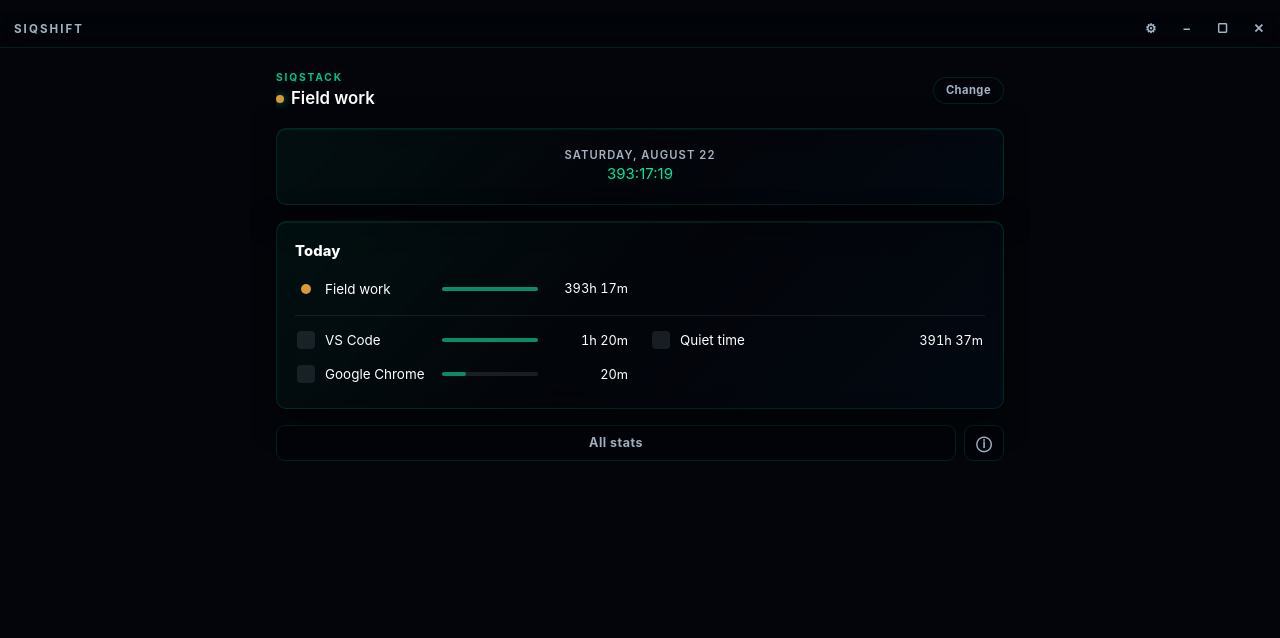
Scenario: recording › pins time to a project and hands the choice back to the host
What coordinates should you click on to do the following:
click the button with test id "filing-change"
I would click on:
 (968, 91)
Its box is [933, 77, 1004, 104].
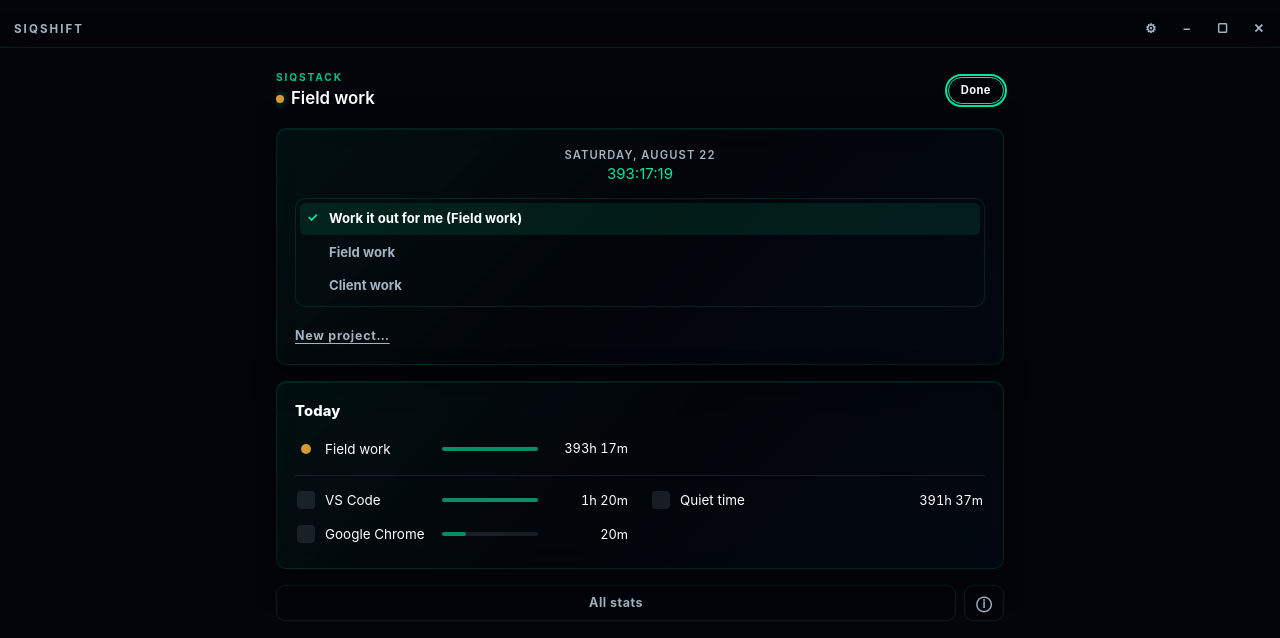
What coordinates should you click on to do the following:
click the radio button labelled "Client work"
I would click on:
 (365, 285)
Its box is [300, 270, 980, 302].
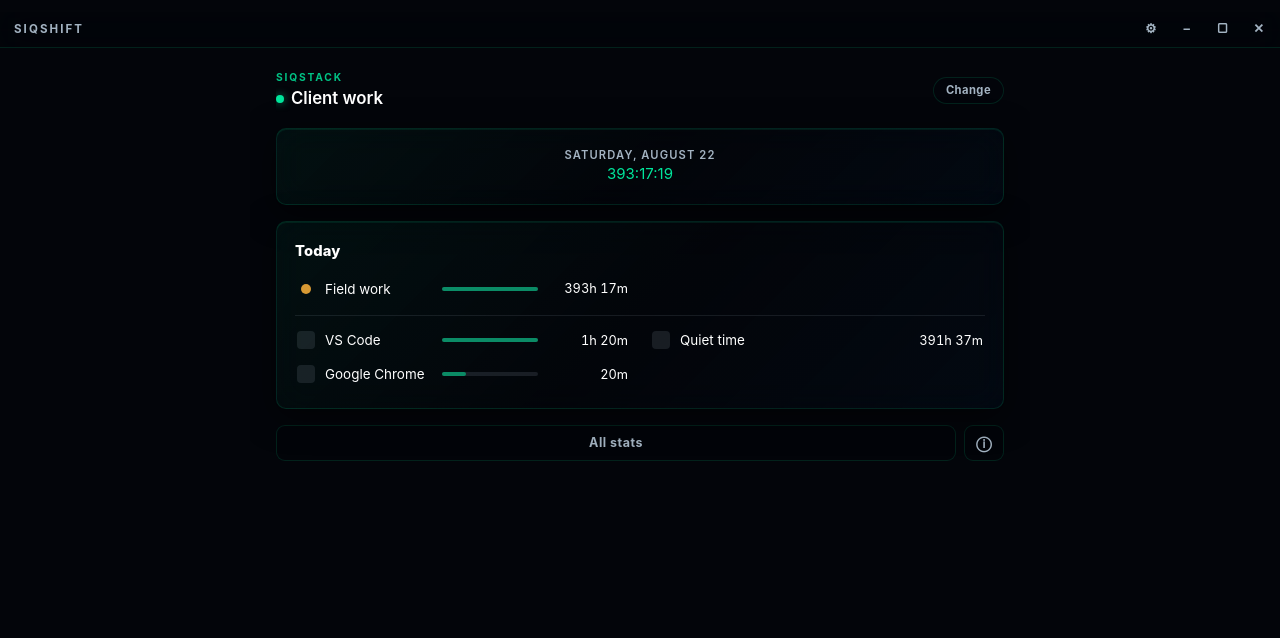
expect the element with test id "filing-where" shows "Client work": met, box [291, 88, 383, 108]
